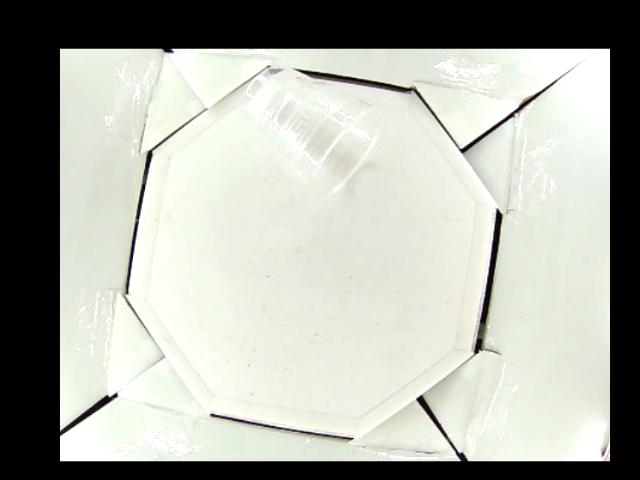Cup: (246, 65, 384, 194)
